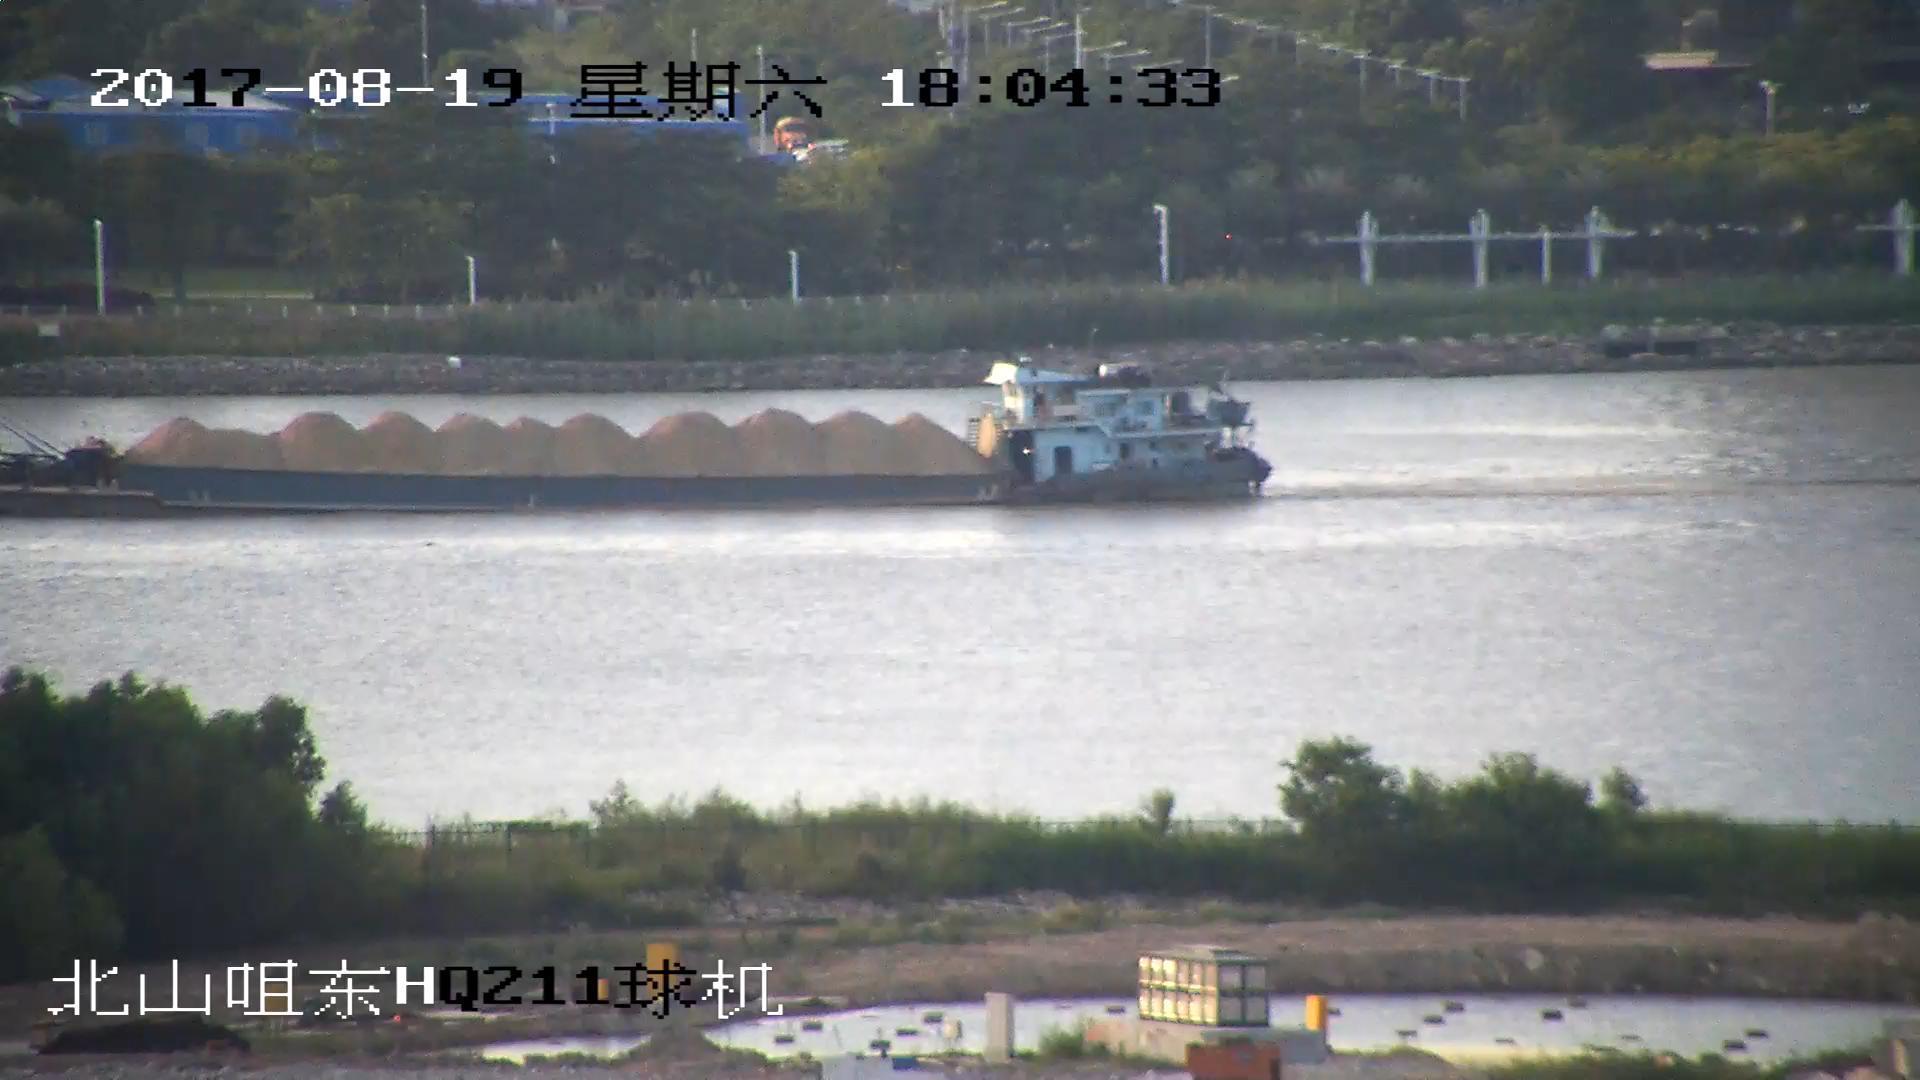Ship: (3, 351, 1278, 510)
